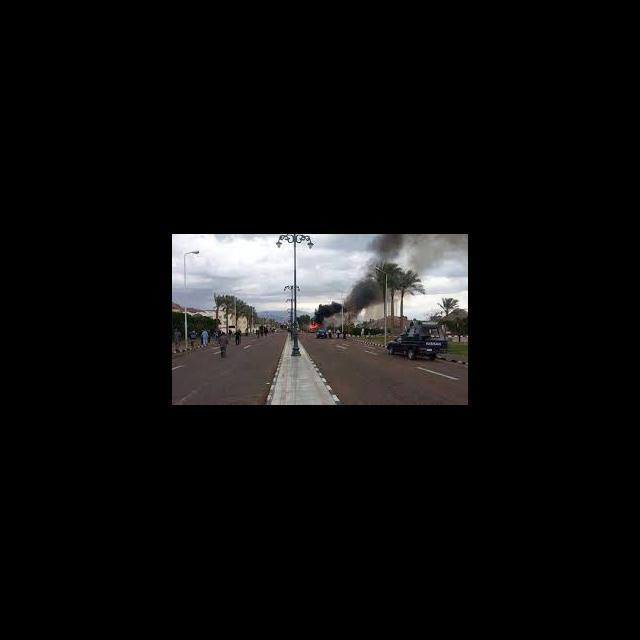Fire: (306, 320, 319, 330)
Smoke: (318, 235, 467, 318)
